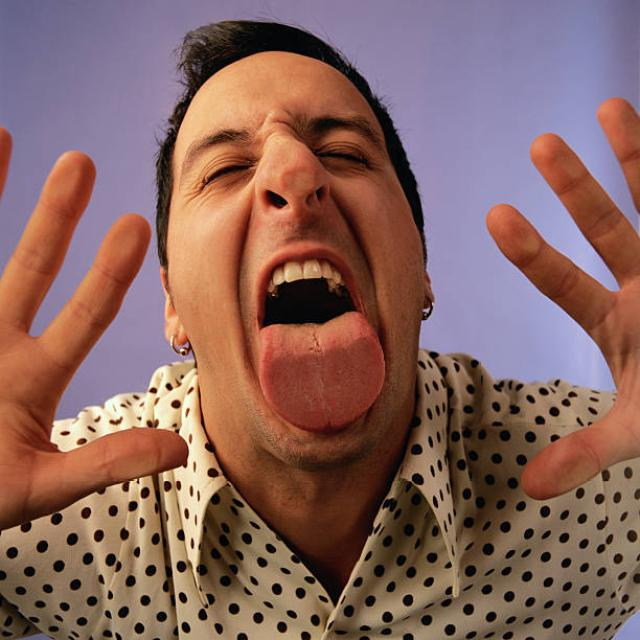tongue: (248, 306, 398, 438)
